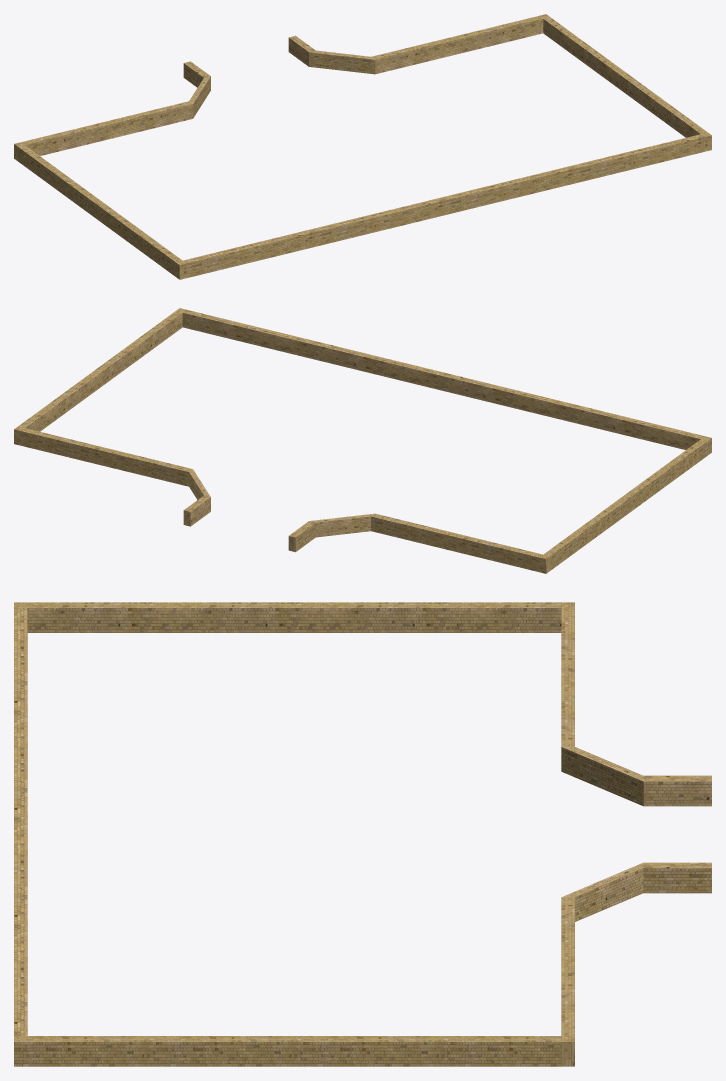
Rendered from walls.gltf.
The picture shows the model from 3 angles, top to bottom: view 1: azimuth 30°, elevation 25°; view 2: azimuth 150°, elevation 25°; view 3: azimuth 270°, elevation 25°; orthographic projection. The views are drawn at different scales.
Parts seen in each view (by area): view 1: Wall_Front_1, Wall_Left_3, Wall_Left_3.001, Wall_Left_4.001, Wall_Left_4, Wall_Left_2.001_PCA, Wall_Left_1.001, Wall_Left_2_PCA; view 2: Wall_Front_1, Wall_Left_3, Wall_Left_4, Wall_Left_3.001, Wall_Left_4.001, Wall_Left_2_PCA, Wall_Left_1, Wall_Left_1.001; view 3: Wall_Left_3.001, Wall_Left_3, Wall_Front_1, Wall_Left_2_PCA, Wall_Left_4.001, Wall_Left_2.001_PCA, Wall_Left_1.001, Wall_Left_1, Wall_Left_4.
Part boxes in pixels (x1=…): Wall_Front_1: x1=183, y1=134, x2=704, y2=277; Wall_Left_3: x1=18, y1=145, x2=186, y2=279; Wall_Left_3.001: x1=543, y1=17, x2=711, y2=151; Wall_Left_4.001: x1=371, y1=14, x2=549, y2=74; Wall_Left_4: x1=14, y1=101, x2=192, y2=160; Wall_Left_2.001_PCA: x1=309, y1=50, x2=375, y2=74; Wall_Left_1.001: x1=288, y1=35, x2=315, y2=66; Wall_Left_2_PCA: x1=189, y1=76, x2=210, y2=118; Wall_Front_1: x1=182, y1=310, x2=704, y2=449; Wall_Left_3: x1=543, y1=436, x2=711, y2=570; Wall_Left_4: x1=371, y1=513, x2=550, y2=573; Wall_Left_3.001: x1=18, y1=308, x2=186, y2=431; Wall_Left_4.001: x1=14, y1=426, x2=192, y2=486; Wall_Left_2_PCA: x1=309, y1=513, x2=374, y2=537; Wall_Left_1: x1=288, y1=521, x2=315, y2=552; Wall_Left_1.001: x1=183, y1=495, x2=210, y2=526; Wall_Left_3.001: x1=14, y1=1036, x2=561, y2=1066; Wall_Left_3: x1=14, y1=602, x2=561, y2=632; Wall_Front_1: x1=14, y1=608, x2=27, y2=1035; Wall_Left_2_PCA: x1=561, y1=747, x2=643, y2=806; Wall_Left_4.001: x1=561, y1=897, x2=574, y2=1066; Wall_Left_2.001_PCA: x1=562, y1=862, x2=643, y2=921; Wall_Left_1.001: x1=643, y1=862, x2=711, y2=893; Wall_Left_1: x1=643, y1=775, x2=711, y2=806; Wall_Left_4: x1=561, y1=602, x2=574, y2=746.
Size of the model in its own units: 76 by 2 by 51.
Materials: 9 (9 with a texture image).
